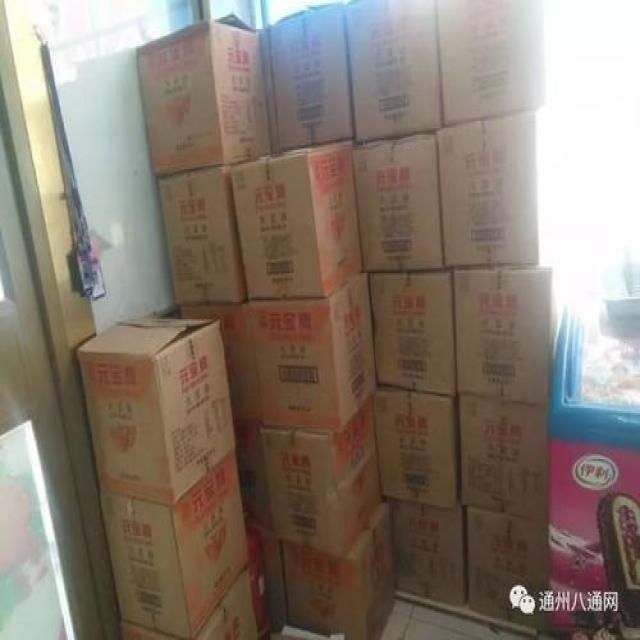box: (77, 312, 237, 505), (101, 451, 250, 638), (137, 12, 273, 176), (230, 140, 365, 299), (248, 275, 380, 433), (261, 399, 381, 553), (280, 499, 398, 638), (437, 112, 539, 269), (343, 2, 444, 144), (435, 0, 544, 127), (454, 267, 552, 405), (353, 134, 445, 273), (270, 3, 355, 149), (159, 164, 246, 304), (458, 396, 548, 522), (370, 270, 457, 394), (467, 505, 549, 630), (178, 304, 263, 424), (373, 385, 458, 503), (382, 497, 468, 605), (248, 524, 289, 638), (236, 424, 275, 531), (200, 566, 257, 638), (258, 27, 278, 150)
